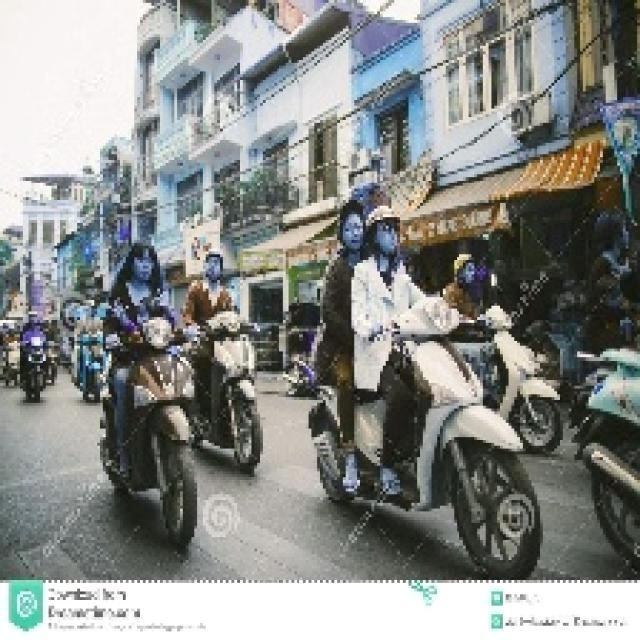Motorcycle: (306, 293, 541, 575), (93, 299, 206, 567)
